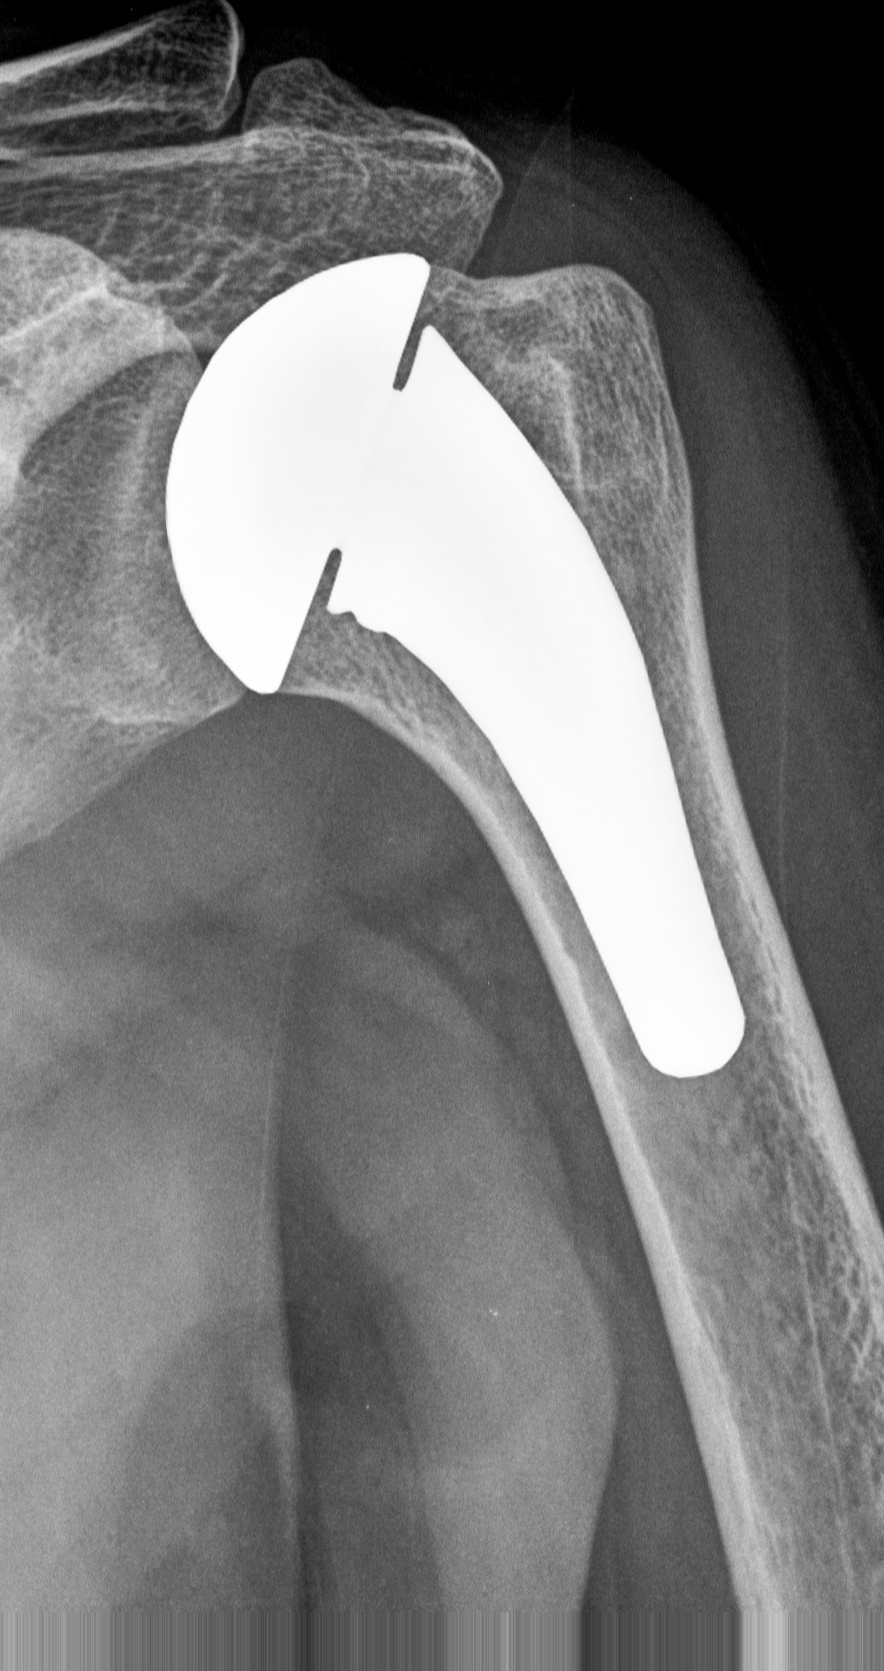Shoulder - AequalisAscendFlex - Tornier: (152, 224, 436, 718)
